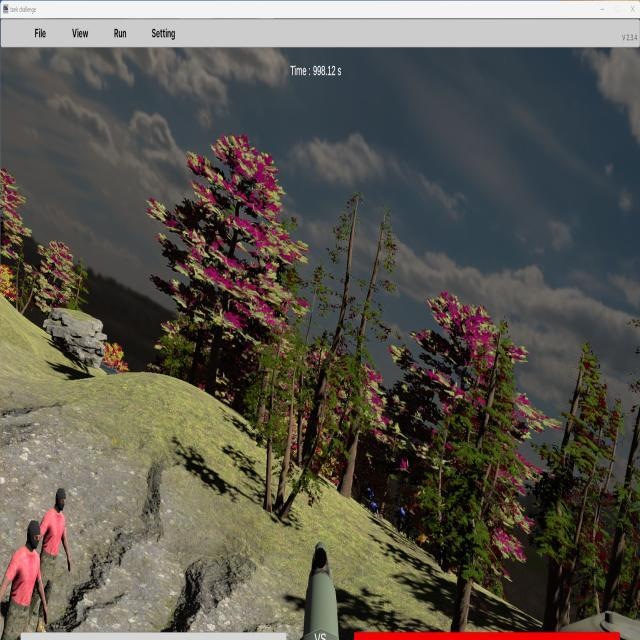Human: (0, 514, 48, 638), (37, 486, 73, 629)
